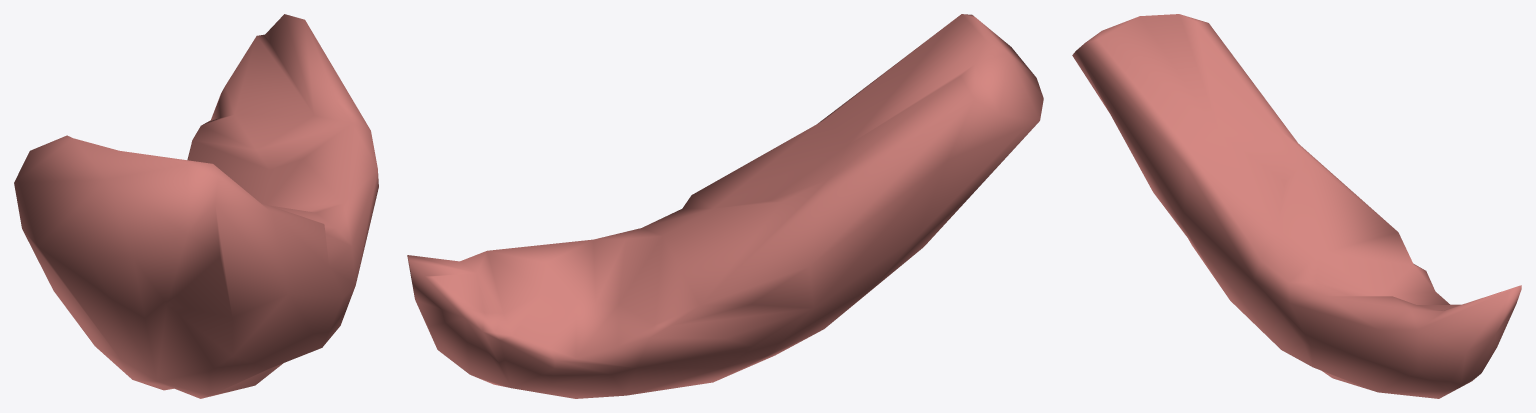
The picture shows the model from 3 angles, left to right: view 1: azimuth 30°, elevation 25°; view 2: azimuth 150°, elevation 25°; view 3: azimuth 270°, elevation 25°; orthographic projection. The views are drawn at different scales.
Parts seen in each view (by area): view 1: ZA_1841069185d1e633; view 2: ZA_1841069185d1e633; view 3: ZA_1841069185d1e633.
Part boxes in pixels (box(x1,y1,x2,y2)): ZA_1841069185d1e633: box(14, 14, 378, 398); ZA_1841069185d1e633: box(407, 14, 1043, 398); ZA_1841069185d1e633: box(1072, 14, 1521, 398).
Bounding box in the file's own units: 0.0212 × 0.0147 × 0.0224.
